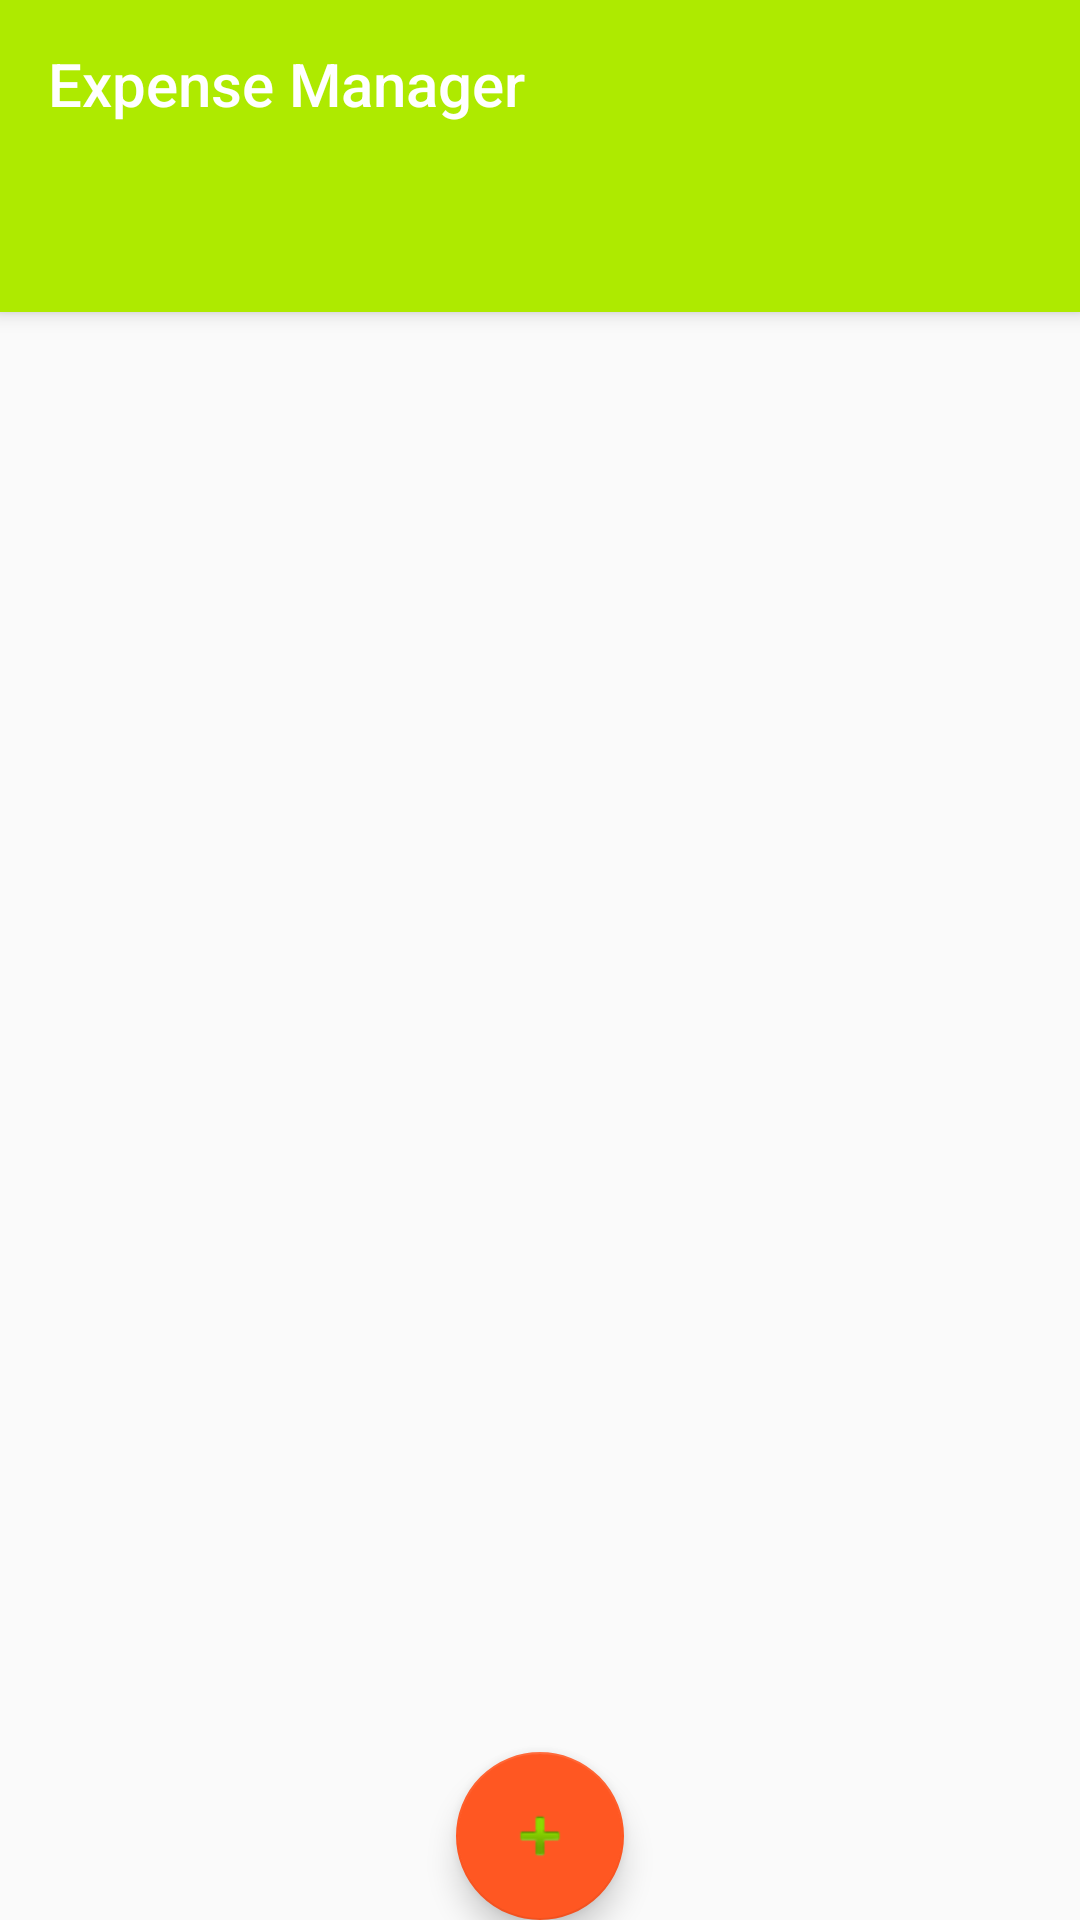

Icons on this 1080px×1920px Android screen, each with the point to tap as [x,y]:
add: [540,1836]
